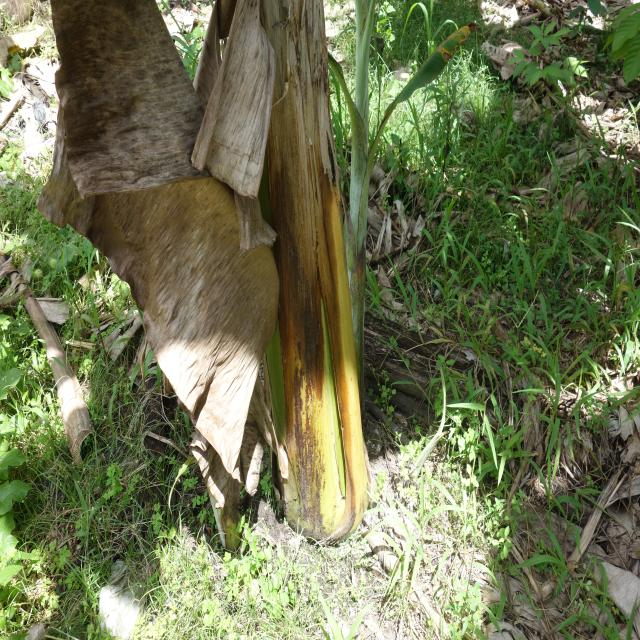Banana-plant: (227, 0, 375, 539)
